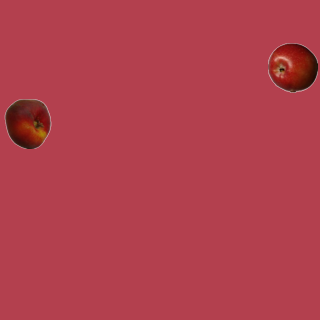Apple Braeburn: (267, 42, 317, 92)
Nectarine Flat: (2, 98, 52, 148)
